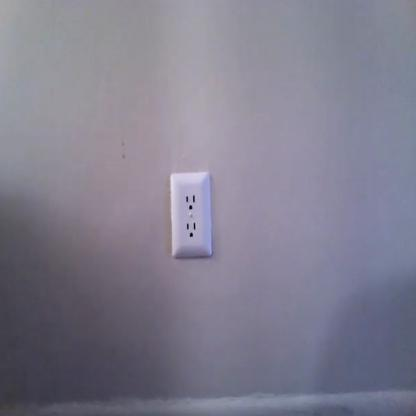OUTLET: (170, 172, 212, 255)
